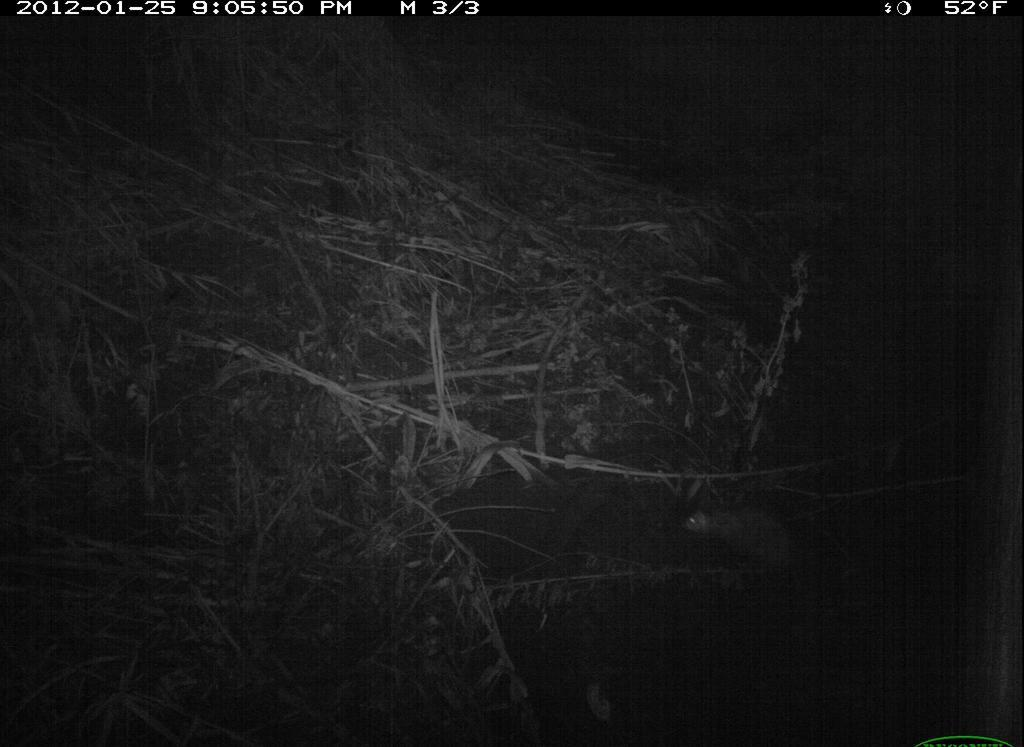opossum: (675, 502, 830, 580)
